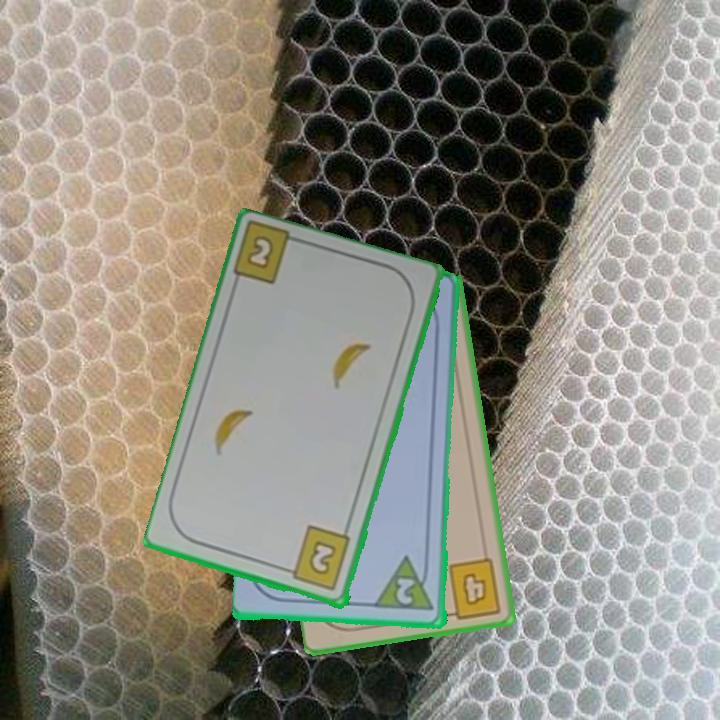2b: (281, 523, 354, 594), (243, 232, 277, 273)
2p: (393, 575, 418, 608)
4b: (441, 555, 505, 622)
